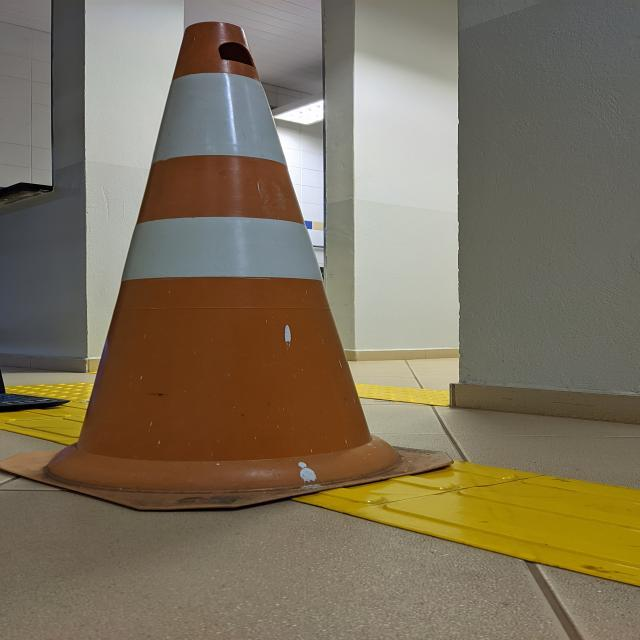Cone: (0, 13, 463, 516)
